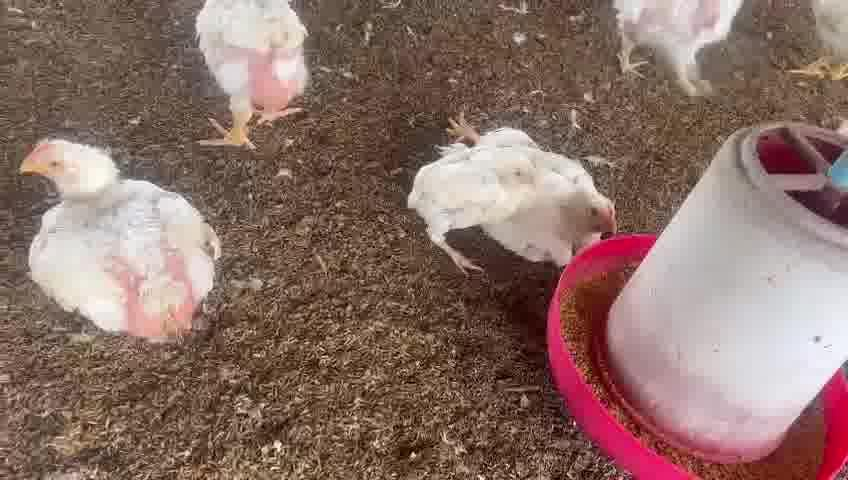AbNormal: (454, 111, 624, 258), (386, 140, 529, 271)
Normal: (10, 141, 234, 339), (174, 0, 319, 158), (615, 0, 745, 98)
